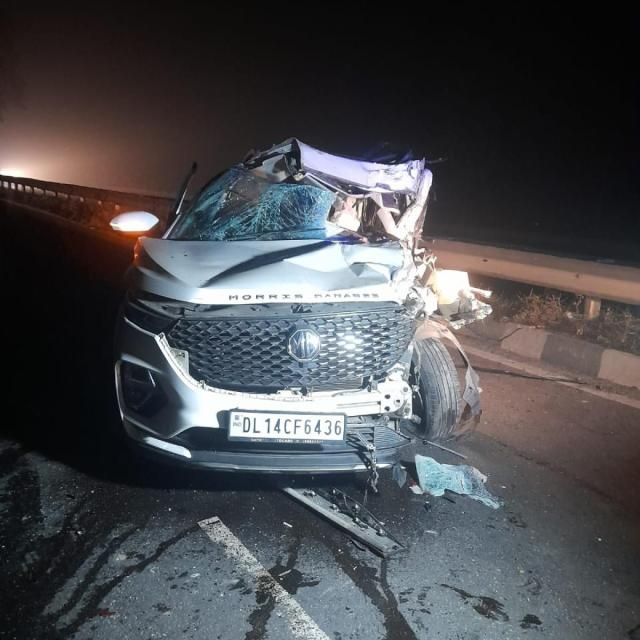accident: (115, 139, 489, 473)
